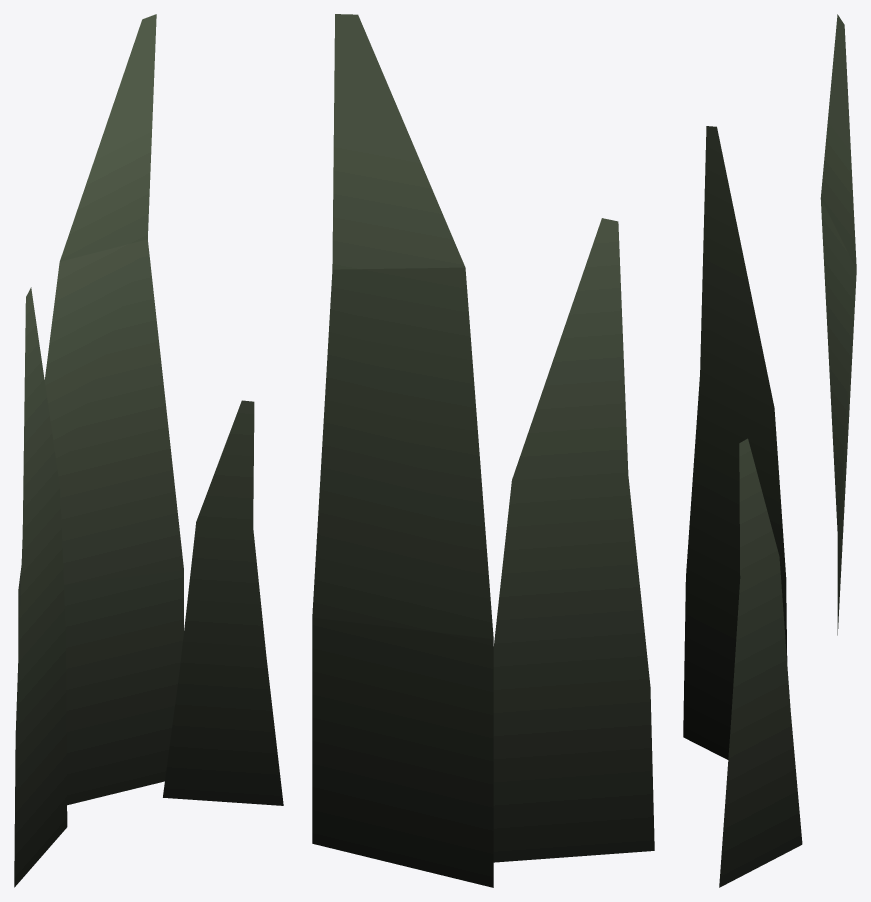
File: GrassBunch1.glb
3 views of the same model, side by side, from view 1: azimuth 30°, elevation 25°; view 2: azimuth 150°, elevation 25°; view 3: azimuth 270°, elevation 25° (orthographic). The views are drawn at different scales.
Visible parts, largest first — view 1: GrassBunch1; view 2: GrassBunch1; view 3: GrassBunch1.
Part boxes in pixels (<box>): GrassBunch1: <box>14,14,283,887</box>; GrassBunch1: <box>312,14,654,887</box>; GrassBunch1: <box>683,14,856,887</box>.
Size of the model in its own units: 0.2209 by 0.5663 by 0.1075.
Materials: 1 (1 with a texture image).
